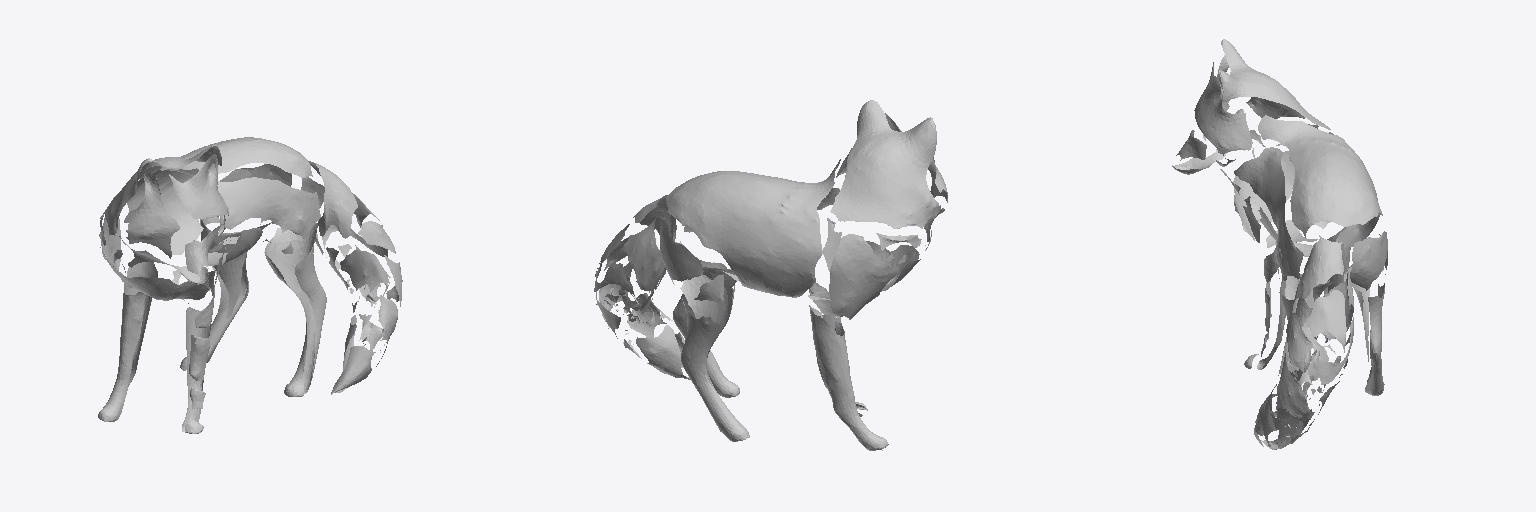
File: test_smooth.obj
3 renders of one model, left to right at view 1: azimuth 30°, elevation 25°; view 2: azimuth 150°, elevation 25°; view 3: azimuth 270°, elevation 25°, orthographic.
Visible parts, largest first — view 1: mesh_uvwrap; view 2: mesh_uvwrap; view 3: mesh_uvwrap.
Part boxes in pixels (x1,y1,x2,y2): mesh_uvwrap: (98,137,402,433); mesh_uvwrap: (594,100,947,450); mesh_uvwrap: (1172,39,1387,449).
Size of the model in its own units: 1.96 by 1.82 by 1.18.